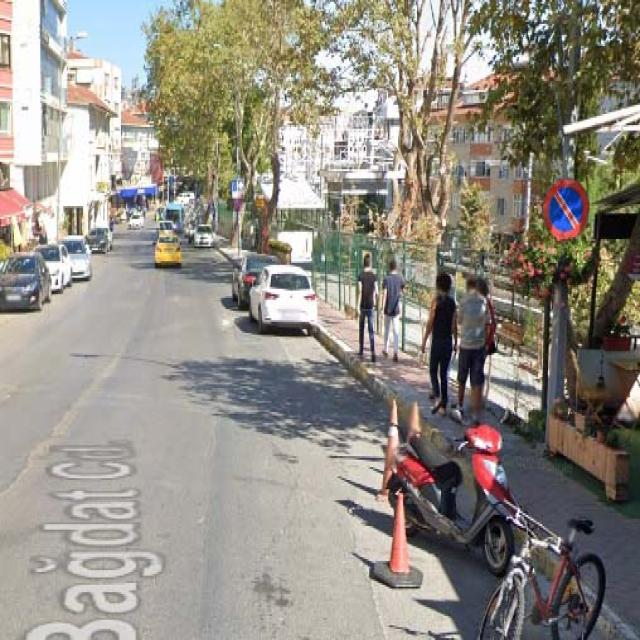parkyasak: (544, 177, 590, 239)
